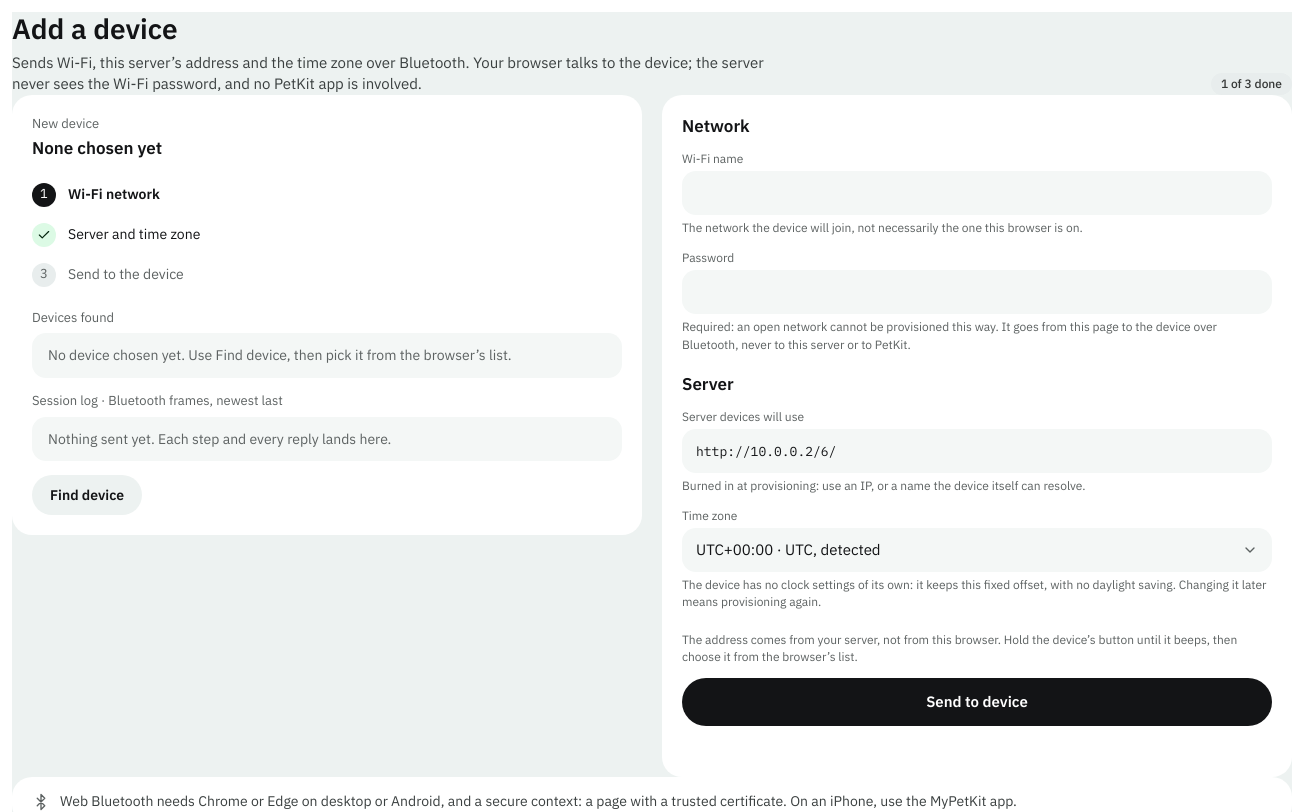
ProvisionPage › requires the Wi-Fi name and password before opening the chooser
Click the button "Send to device" at (977, 702), box top-left (682, 678), bottom-right (1272, 726)
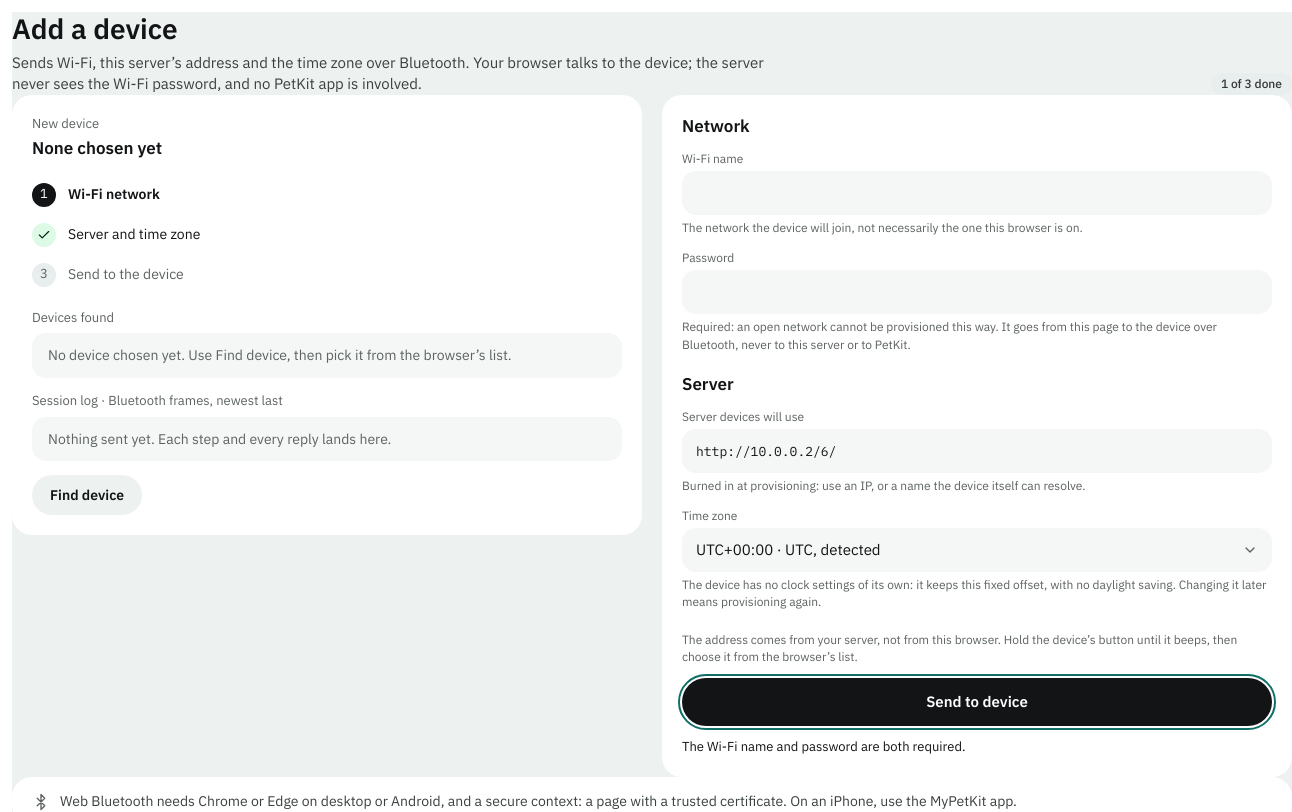
Expected: the message shows "Wi-Fi name and password are both required", top-left (682, 738), bottom-right (966, 755)
